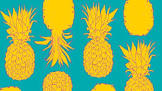Pineapple: (32, 1, 76, 68), (82, 3, 117, 77), (2, 8, 35, 79), (120, 39, 157, 91)
